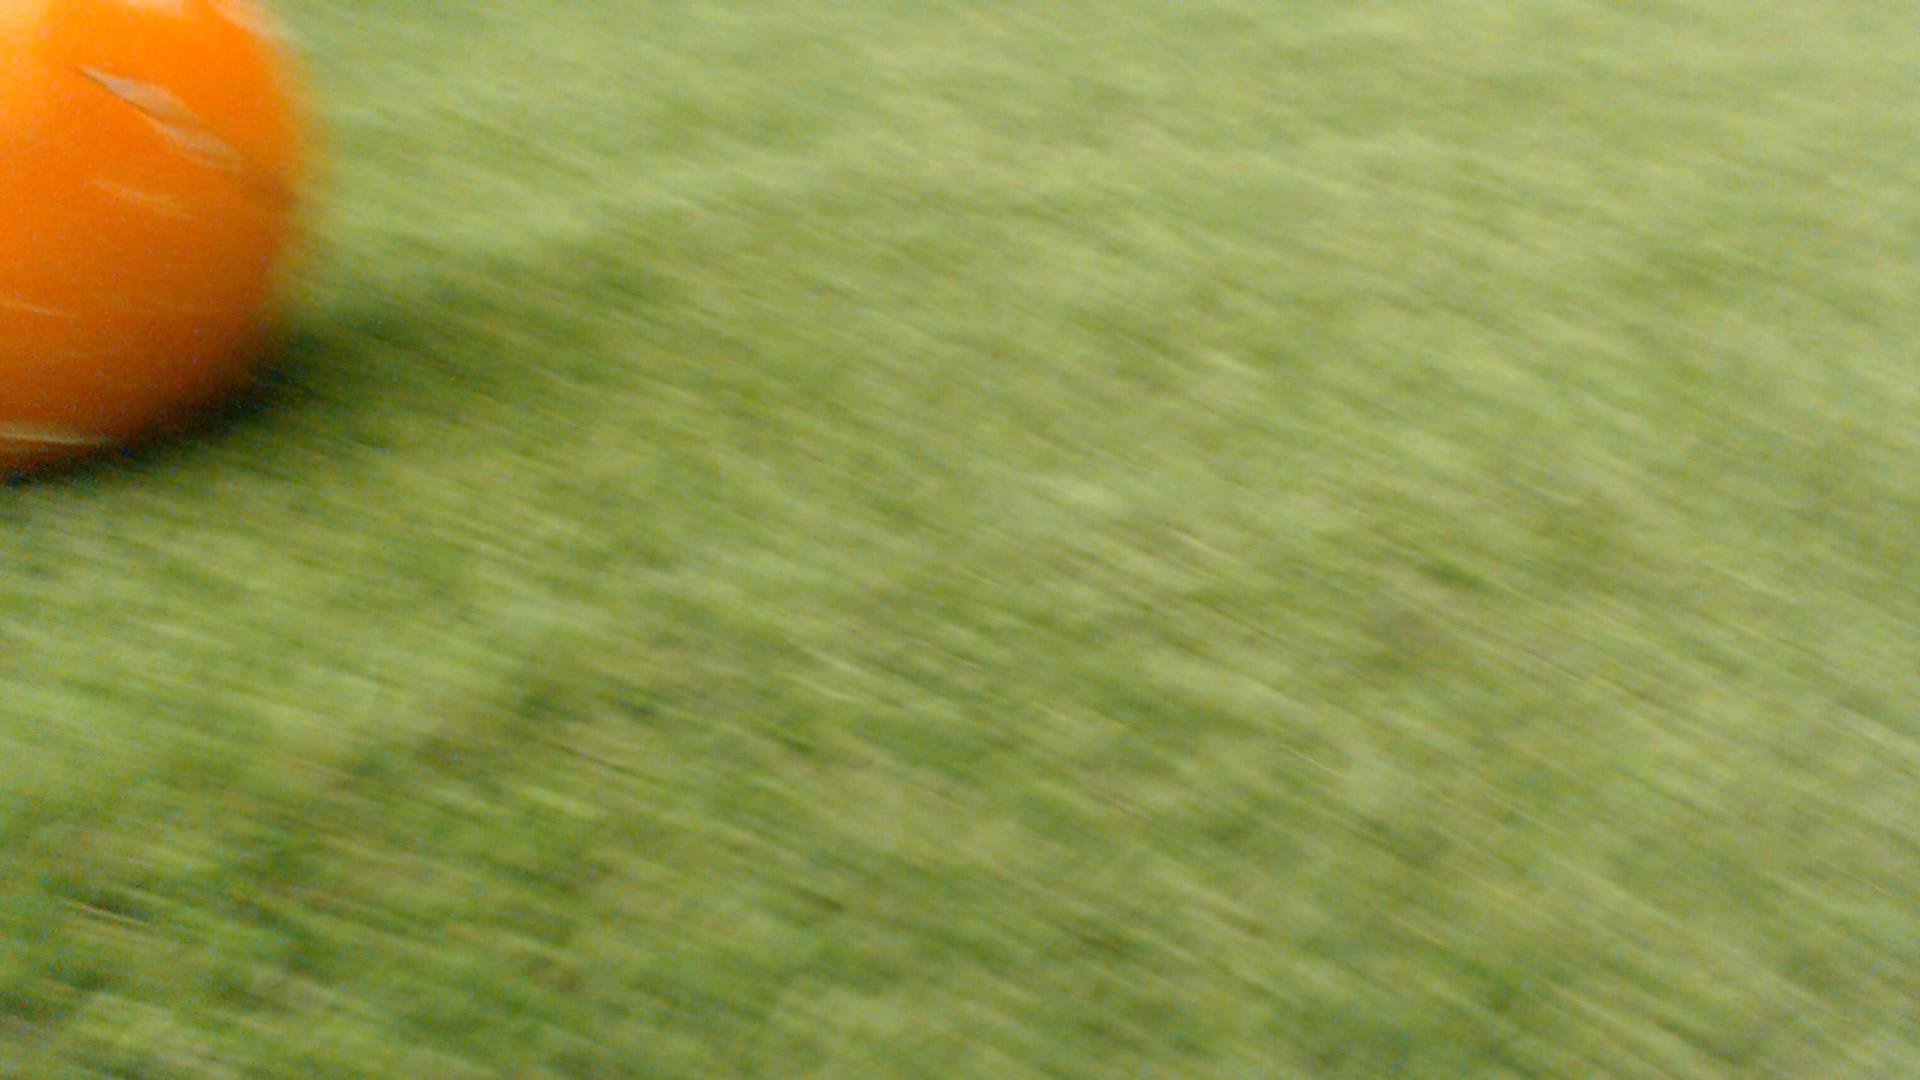bola: (0, 0, 330, 500)
